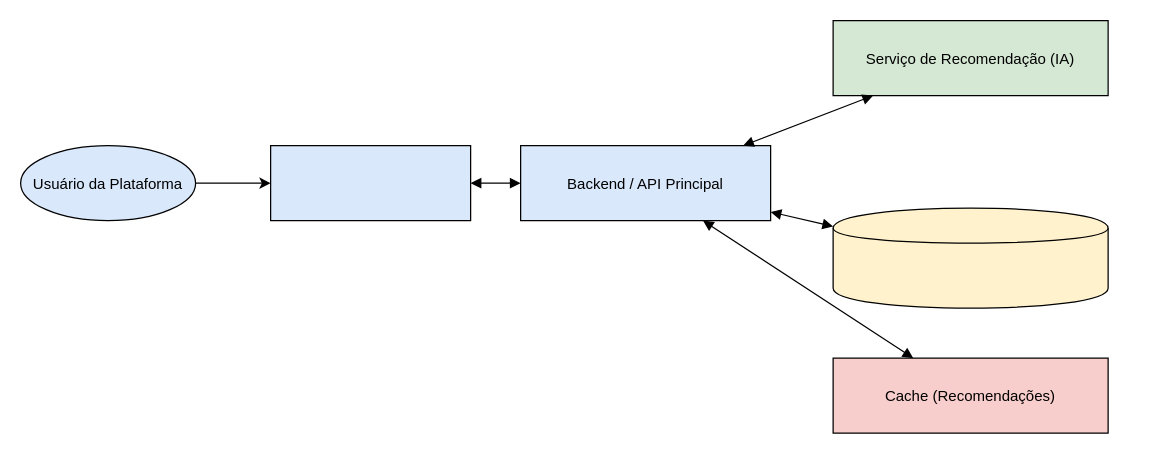
Some shapes in this 1163 by 454 pixel diagram are drawn without their labels. The centre of each missing label's shape, as x and y in pixels:
Banco de Dados (Usuários, Histórico, Preferências): the point at 970,257
Frontend Web/App: the point at 370,182
